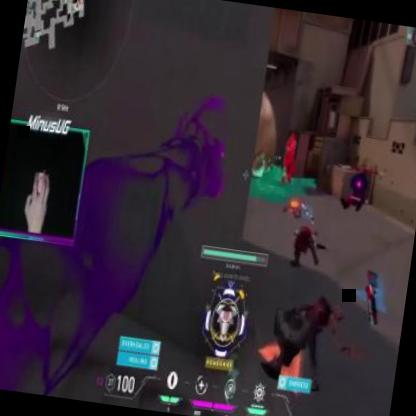enemy: (278, 130, 301, 184)
enemy_head: (288, 132, 296, 144)
